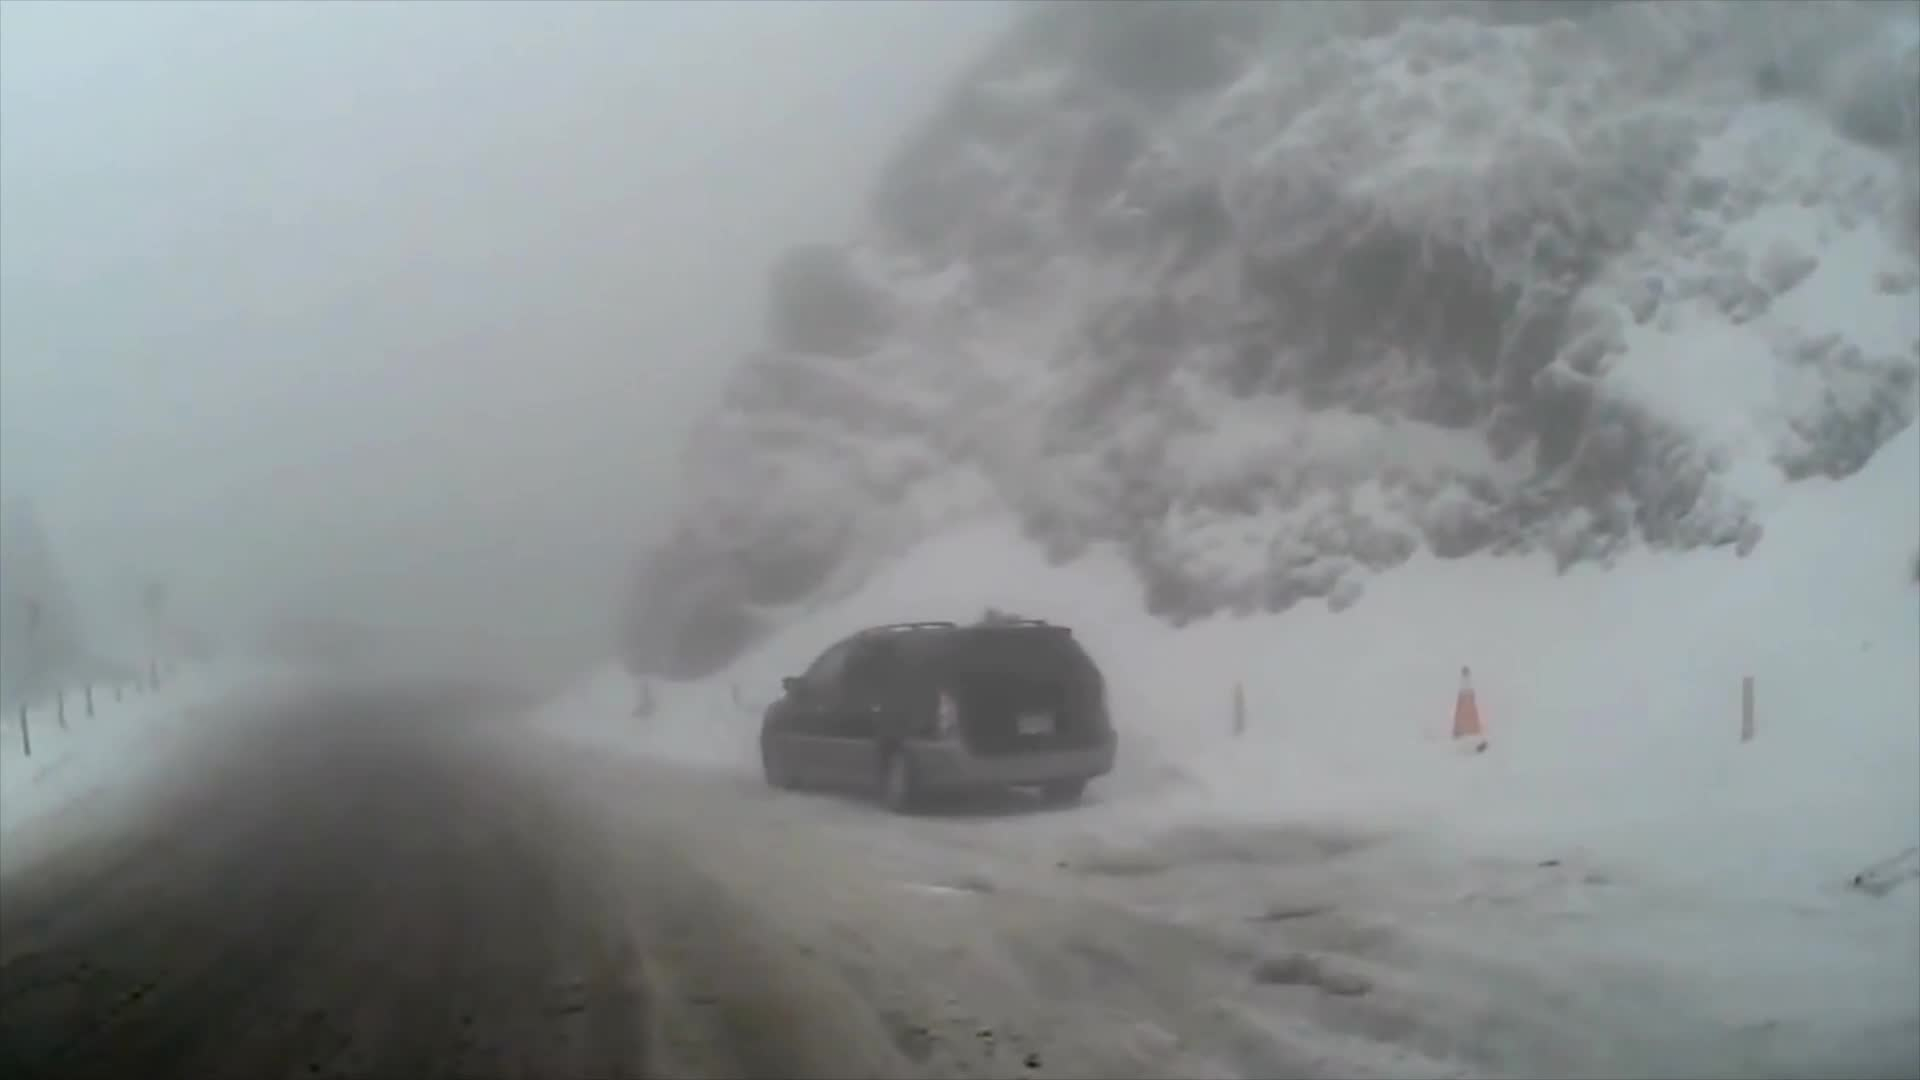vehicle: (756, 621, 1117, 818)
